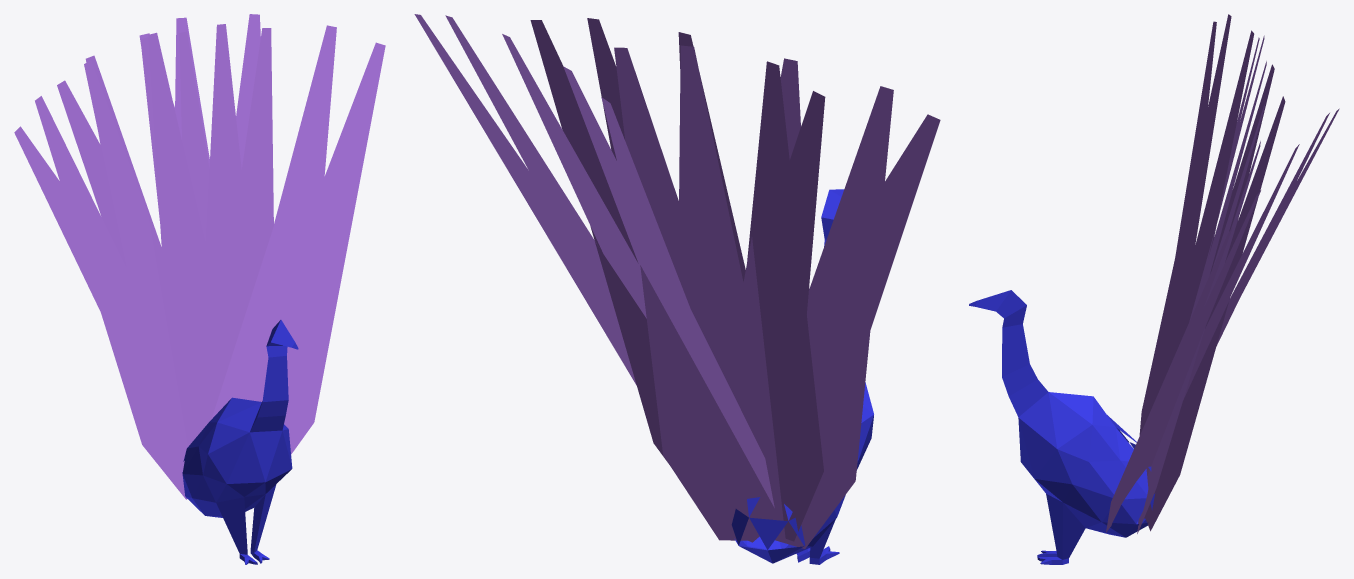
Rendered from peacock2.glb.
3 renders of one model, left to right at view 1: azimuth 30°, elevation 25°; view 2: azimuth 150°, elevation 25°; view 3: azimuth 270°, elevation 25°, orthographic. The views are drawn at different scales.
Visible parts, largest first — view 1: Icosphere; view 2: Icosphere; view 3: Icosphere.
Part boxes in pixels (left/top/right/bottom): Icosphere: left=14, top=14, right=385, bottom=564; Icosphere: left=414, top=14, right=940, bottom=564; Icosphere: left=969, top=14, right=1339, bottom=564.
Size of the model in its own units: 9.14 by 10.52 by 7.13.
